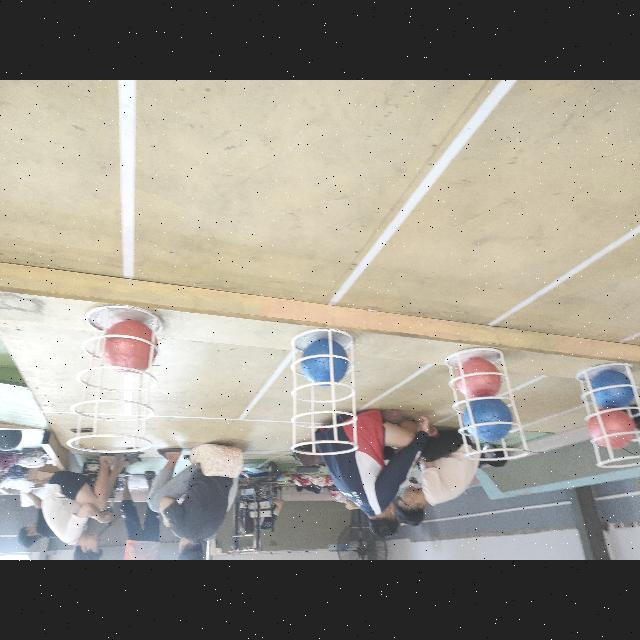B: (302, 339, 348, 387), (463, 396, 511, 442), (590, 370, 636, 408)
R: (100, 320, 158, 376), (589, 407, 635, 449), (456, 357, 502, 399)
